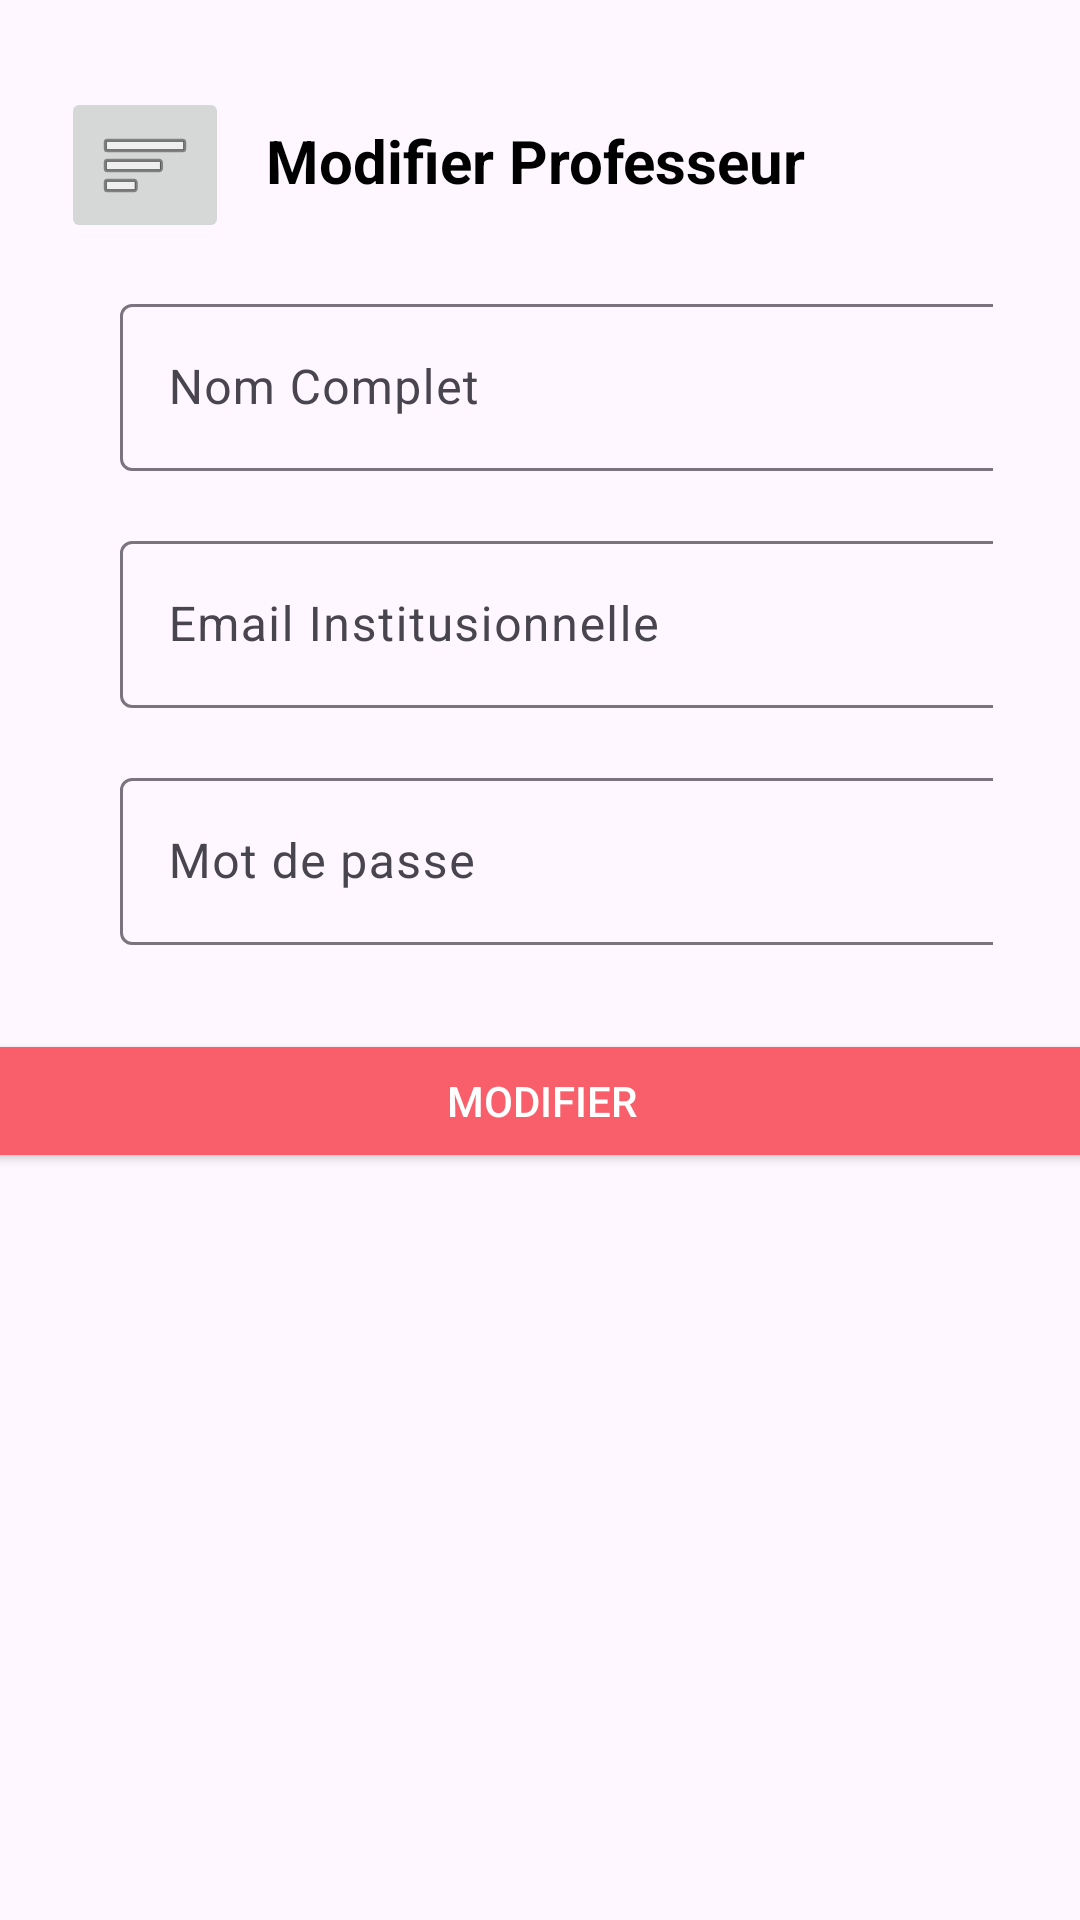

Point at icon controls on the screen. Image size 1080px x 1920px, points as (x=x, y=y).
sort by size: (x=145, y=165)
